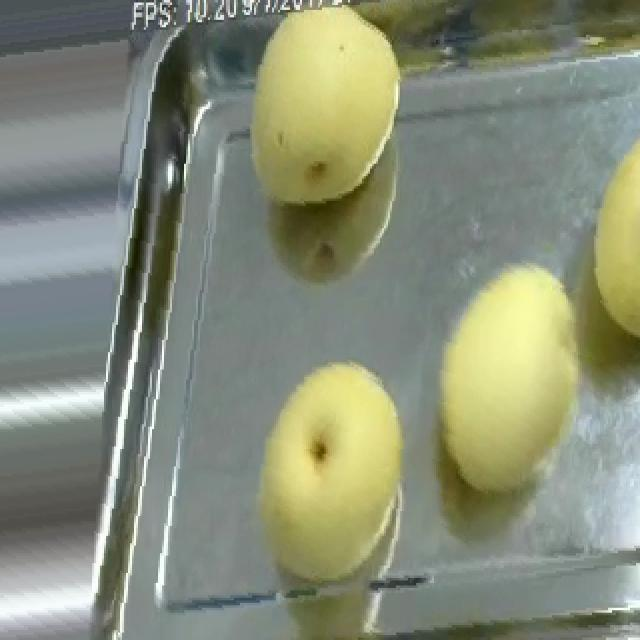Fruit: (412, 241, 622, 514), (234, 338, 440, 596), (230, 0, 416, 226), (576, 104, 640, 365)
